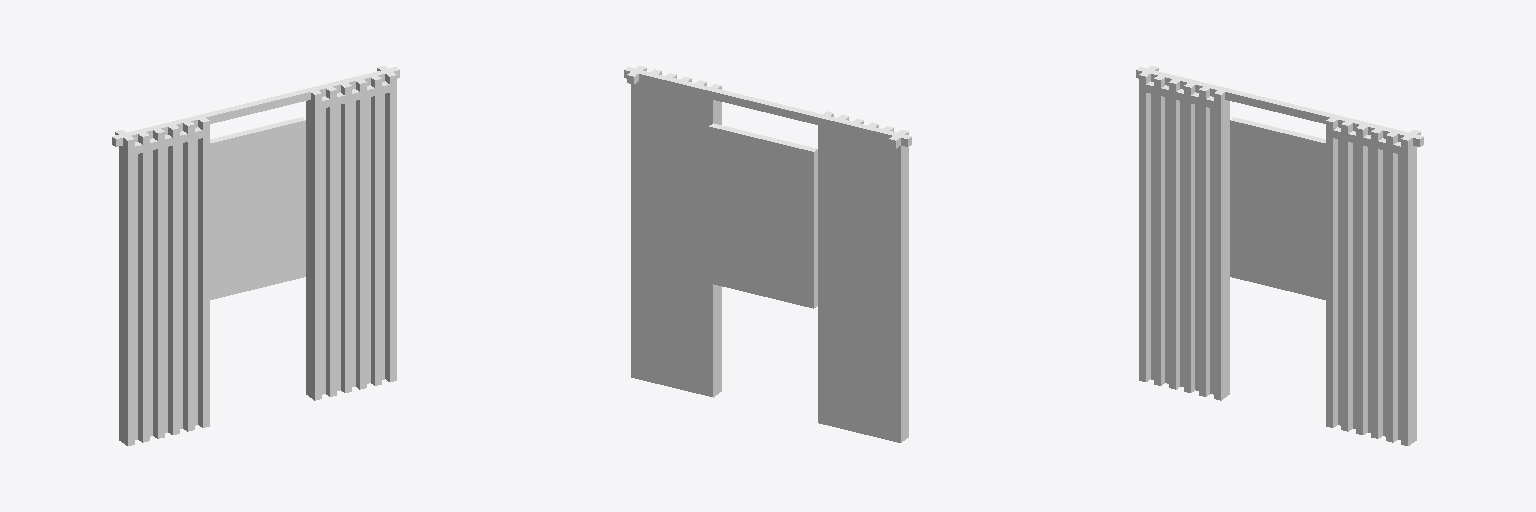
File: Curtains.obj
The picture shows the model from 3 angles: view 1: azimuth 30°, elevation 25°; view 2: azimuth 150°, elevation 25°; view 3: azimuth 330°, elevation 25°; orthographic projection.
Parts seen in each view (by area): view 1: object 1; view 2: object 1; view 3: object 1.
Part boxes in pixels (x1,y1,x2,y2): object 1: (112,66,399,445); object 1: (624,66,911,442); object 1: (1136,66,1423,445).
Size of the model in its own units: 3.8 by 3.9 by 0.3.